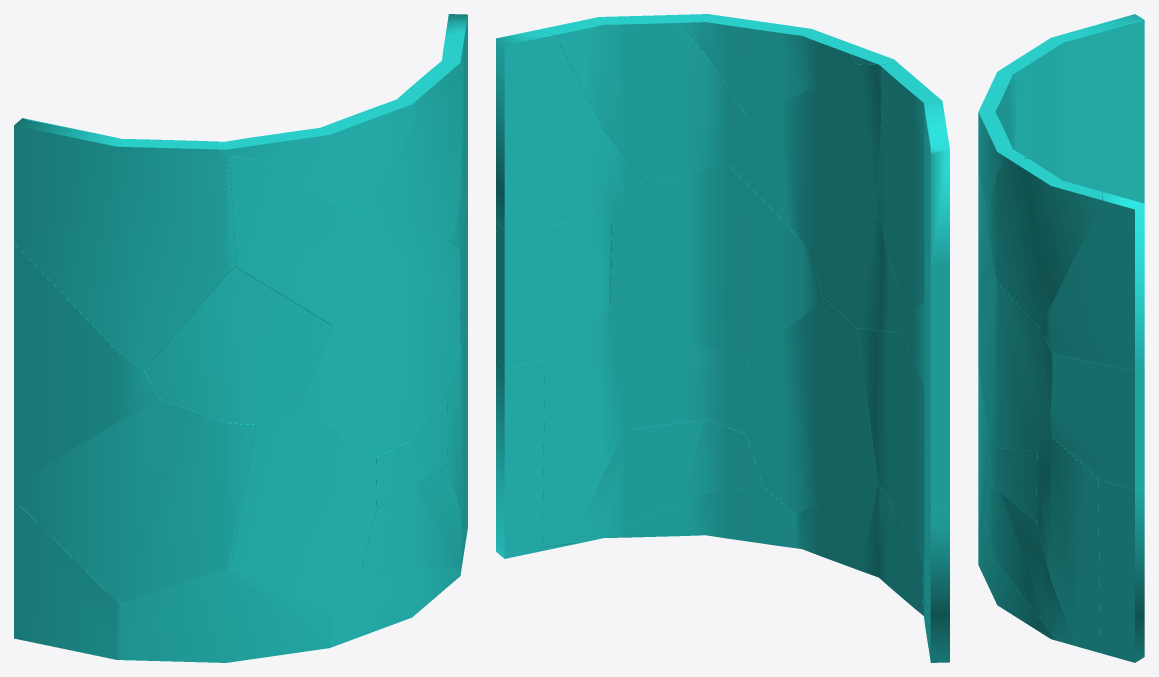
File: CryoGlass.fbx
3 renders of one model, left to right at view 1: azimuth 30°, elevation 25°; view 2: azimuth 150°, elevation 25°; view 3: azimuth 270°, elevation 25°, orthographic. The views are drawn at different scales.
Visible parts, largest first — view 1: Glass_cell.001, Glass_cell.014, Glass_cell.022, Glass_cell.019, Glass_cell.021, Glass_cell.012, Glass_cell.016, Glass_cell.009, Glass_cell.013, Glass_cell.006, Glass_cell.017, Glass_cell.007 (+7 smaller); view 2: Glass_cell.022, Glass_cell.013, Glass_cell.019, Glass_cell.005, Glass_cell.016, Glass_cell.003, Glass_cell.008, Glass_cell.001, Glass_cell.007, Glass_cell.014, Glass_cell.017, Glass_cell.018 (+6 smaller); view 3: Glass_cell.001, Glass_cell.005, Glass_cell.013, Glass_cell.008, Glass_cell.003, Glass_cell.022, Glass_cell.020, Glass_cell.007, Glass_cell.017, Glass_cell.018, Glass_cell.002, Glass_cell.012 (+4 smaller).
Boxes of the visible parts, x1,y1,x2,y2 form: Glass_cell.001: [14, 119, 235, 369]; Glass_cell.014: [14, 398, 255, 604]; Glass_cell.022: [301, 242, 460, 457]; Glass_cell.019: [231, 399, 376, 611]; Glass_cell.021: [144, 267, 331, 424]; Glass_cell.012: [14, 243, 157, 483]; Glass_cell.016: [214, 141, 381, 326]; Glass_cell.009: [120, 567, 330, 662]; Glass_cell.013: [370, 33, 464, 251]; Glass_cell.006: [14, 500, 121, 659]; Glass_cell.017: [258, 88, 420, 213]; Glass_cell.007: [361, 465, 462, 570]; Glass_cell.022: [610, 165, 823, 357]; Glass_cell.013: [536, 14, 746, 184]; Glass_cell.019: [745, 298, 877, 514]; Glass_cell.005: [496, 30, 646, 230]; Glass_cell.016: [729, 64, 885, 254]; Glass_cell.003: [542, 309, 627, 547]; Glass_cell.008: [496, 218, 611, 368]; Glass_cell.001: [877, 62, 949, 314]; Glass_cell.007: [575, 419, 763, 543]; Glass_cell.014: [857, 328, 949, 554]; Glass_cell.017: [677, 14, 858, 115]; Glass_cell.018: [626, 324, 747, 433]; Glass_cell.001: [1001, 14, 1144, 187]; Glass_cell.005: [1039, 192, 1144, 369]; Glass_cell.013: [987, 158, 1102, 325]; Glass_cell.008: [1050, 355, 1144, 490]; Glass_cell.003: [1036, 436, 1100, 652]; Glass_cell.022: [978, 258, 1050, 450]; Glass_cell.020: [1098, 479, 1144, 662]; Glass_cell.007: [985, 481, 1076, 646]; Glass_cell.017: [978, 88, 1026, 214]; Glass_cell.018: [989, 435, 1037, 521]; Glass_cell.002: [978, 523, 1062, 642]; Glass_cell.012: [1090, 123, 1144, 203].
Bounding box in the file's own units: 684 × 739 × 245.
